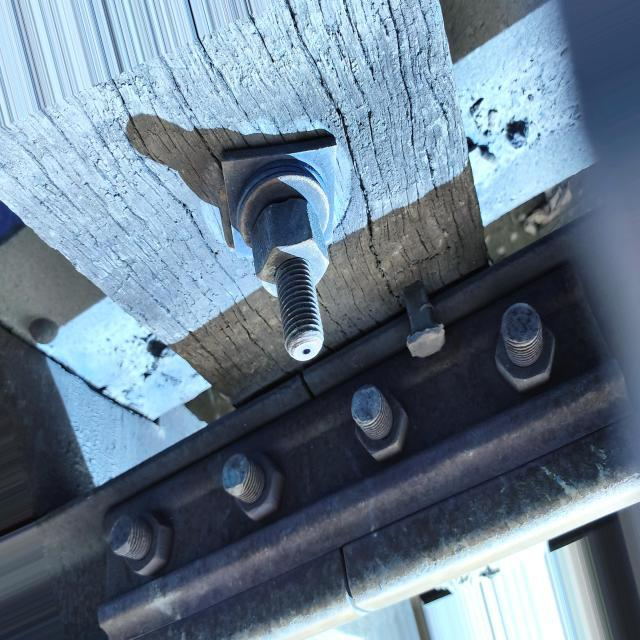Good Fasteners: (221, 138, 336, 360), (404, 281, 445, 358)
Good Joint: (98, 265, 615, 638)
